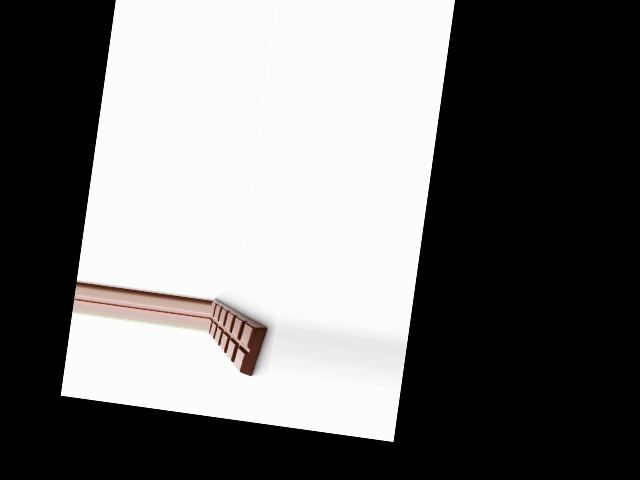chocolate: (203, 294, 272, 378)
